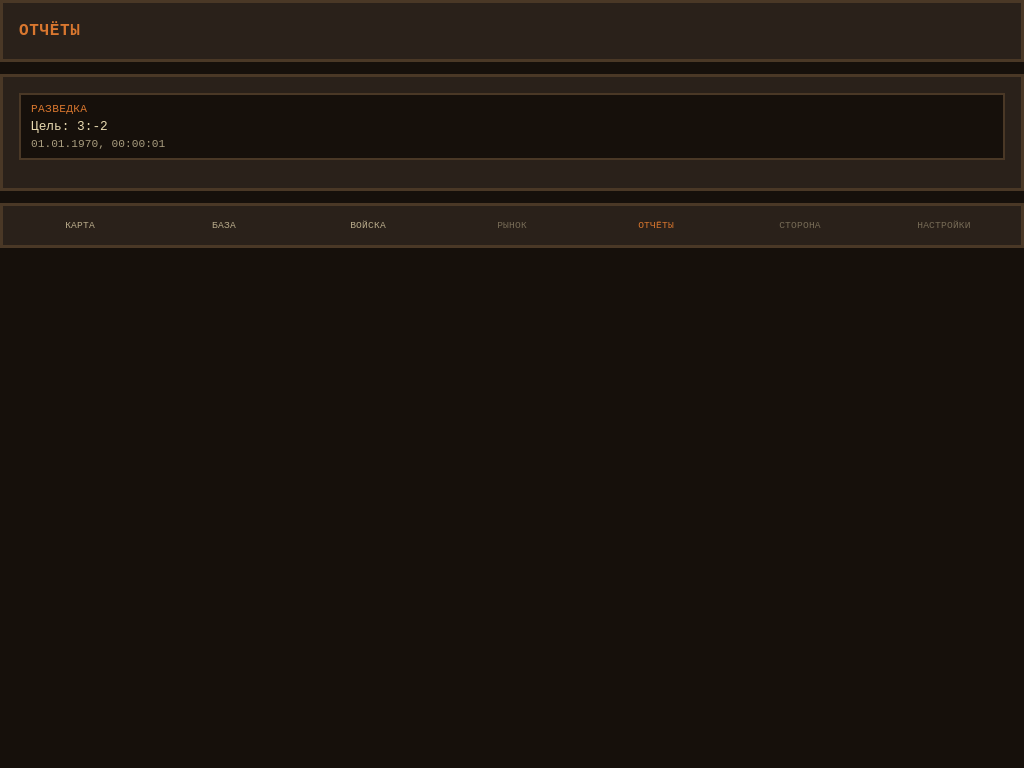
it: ReportsScreen — read-on-open and the unread badge › does not re-request an already-read report on open
Click the text "Разведка": (59, 109) [31,103,87,115]
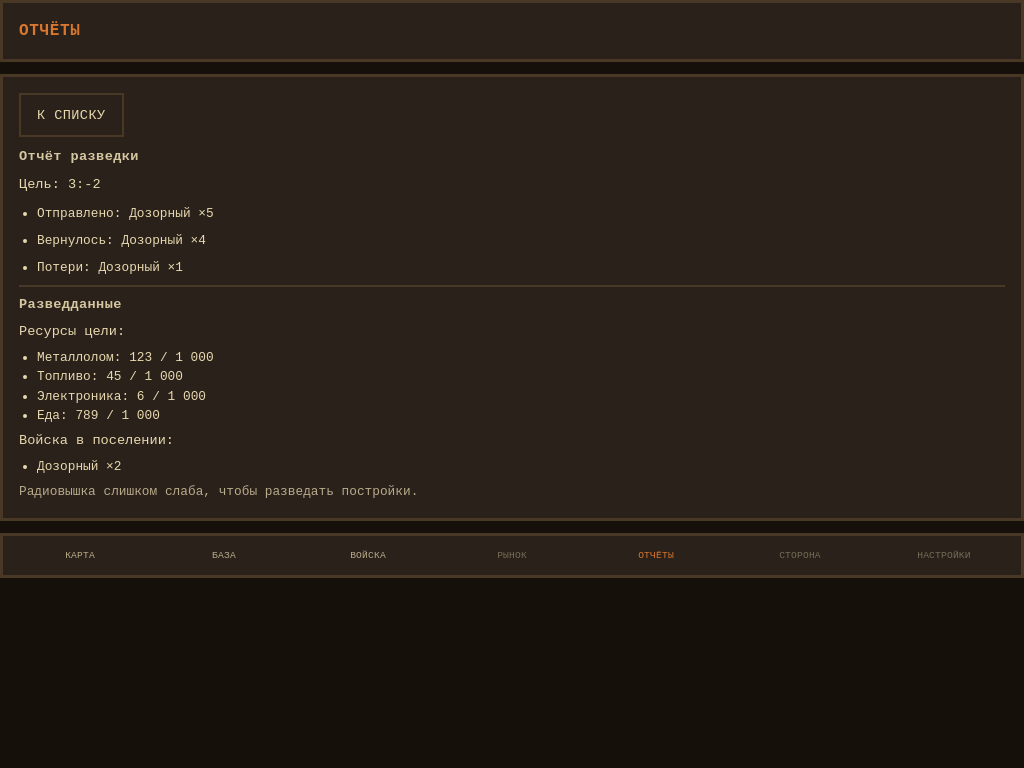
Expected: the heading "Отчёт разведки" is shown, [19,149,139,164]
